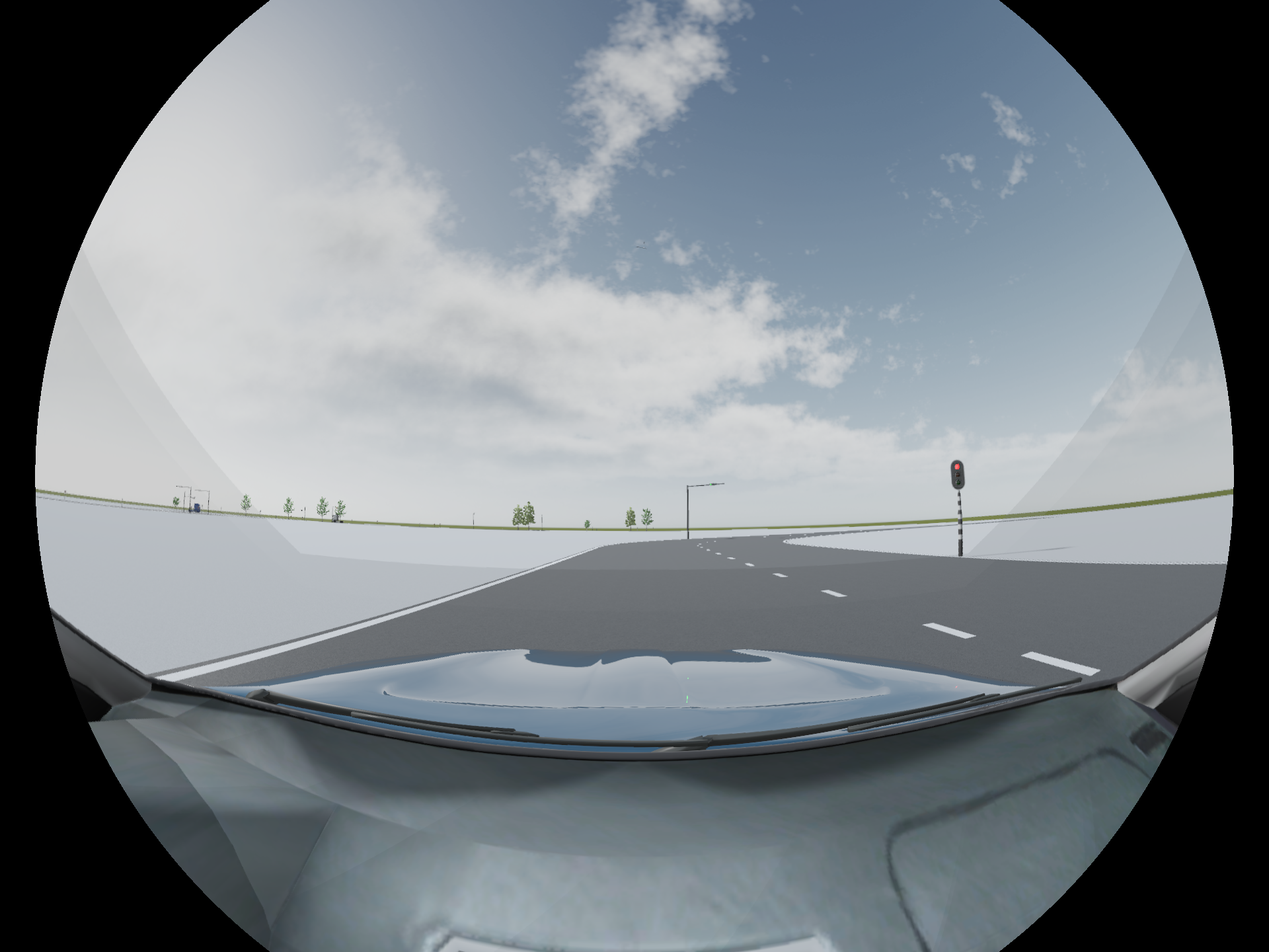Red Light: (952, 459, 965, 490)
